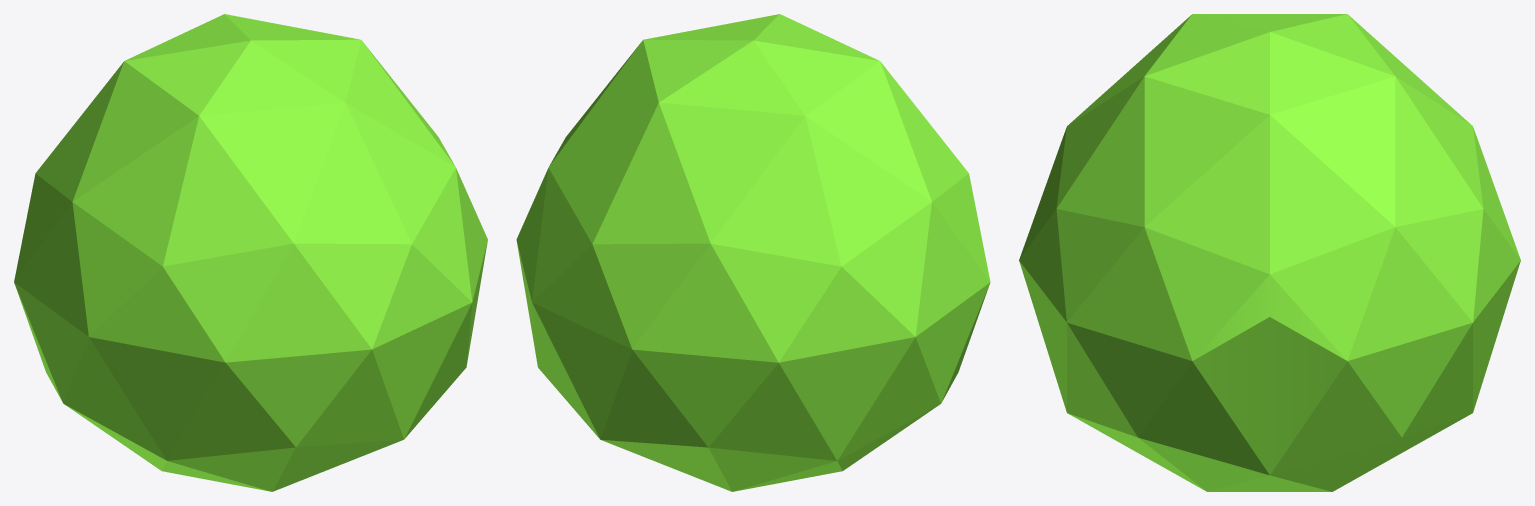
Rendered from cabbage.fbx.
3 views of the same model, side by side, from view 1: azimuth 30°, elevation 25°; view 2: azimuth 150°, elevation 25°; view 3: azimuth 270°, elevation 25° (orthographic). The views are drawn at different scales.
Visible parts, largest first — view 1: Watermelon; view 2: Watermelon; view 3: Watermelon.
Part boxes in pixels (bbox=[...]): Watermelon: bbox=[14, 14, 487, 491]; Watermelon: bbox=[516, 14, 990, 491]; Watermelon: bbox=[1019, 14, 1520, 491].
Size of the model in its own units: 169 by 166 by 178.
